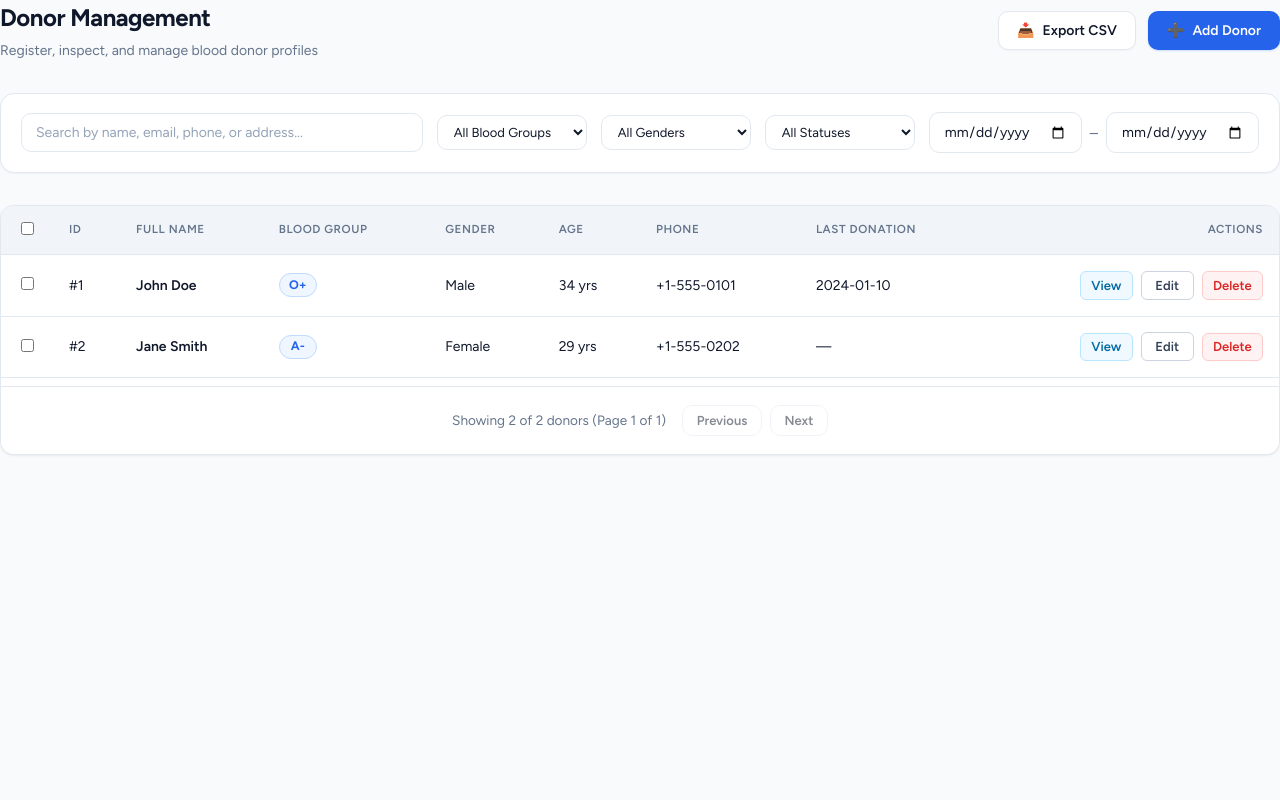
it: Donors Page Component › opens donor details modal when View action is clicked
Click the button with test id "view-donor-1" at (1106, 285), box [1080, 271, 1133, 300]
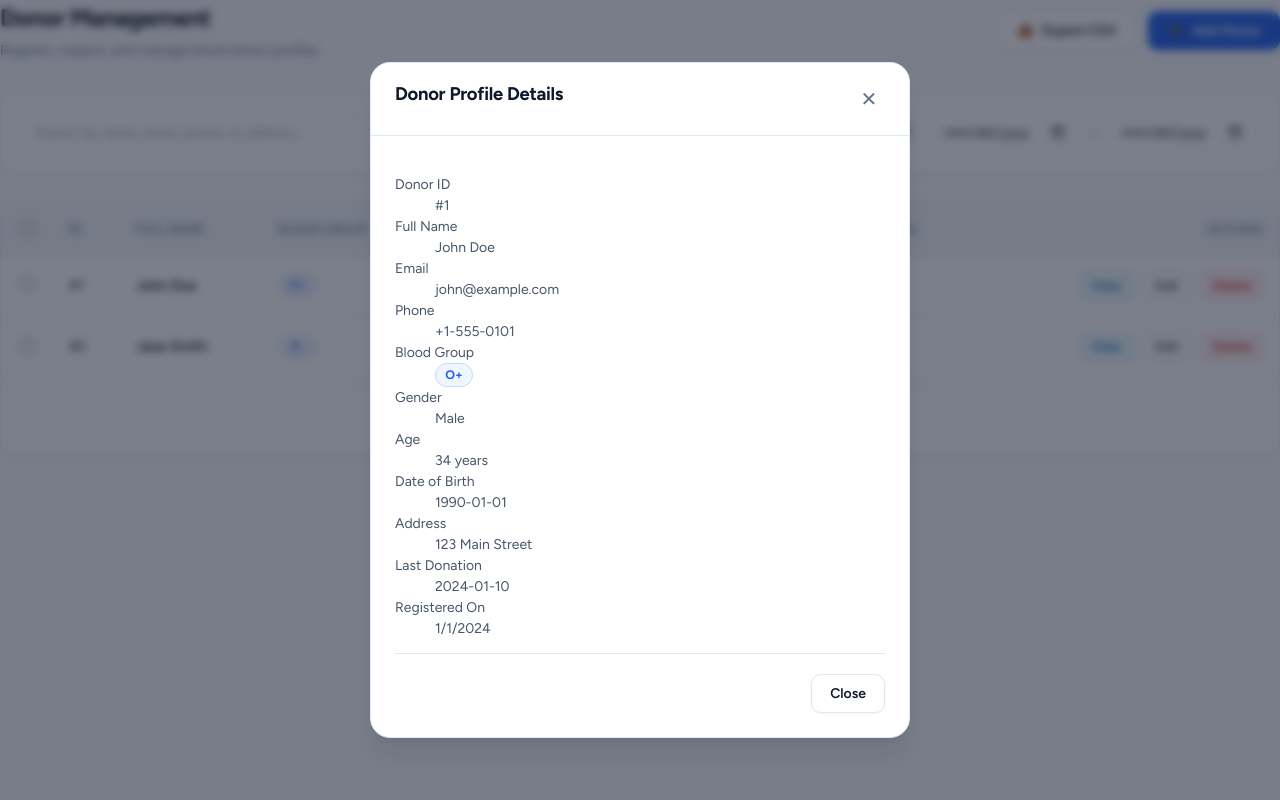
Expected: the element with test id "donor-detail-modal" is shown
Expected: the text with test id "detail-full-name" reads "John Doe", [435, 239, 495, 256]
